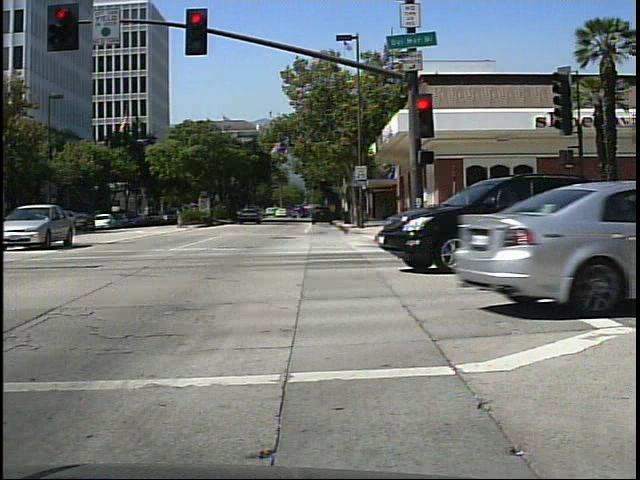person: (291, 203, 305, 221)
